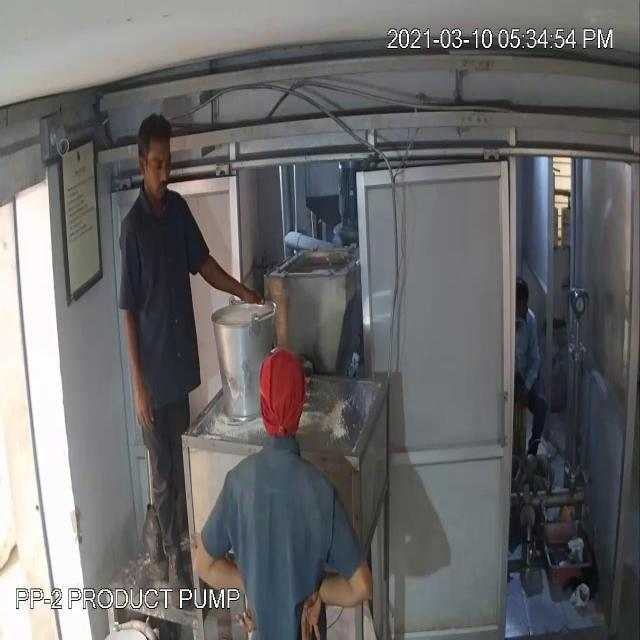No_Gloves: (52, 94, 330, 593)
